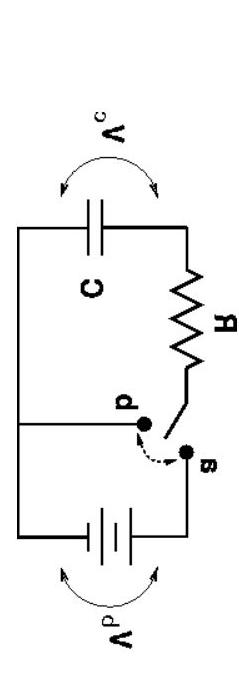Capacitor: (64, 183, 119, 262)
